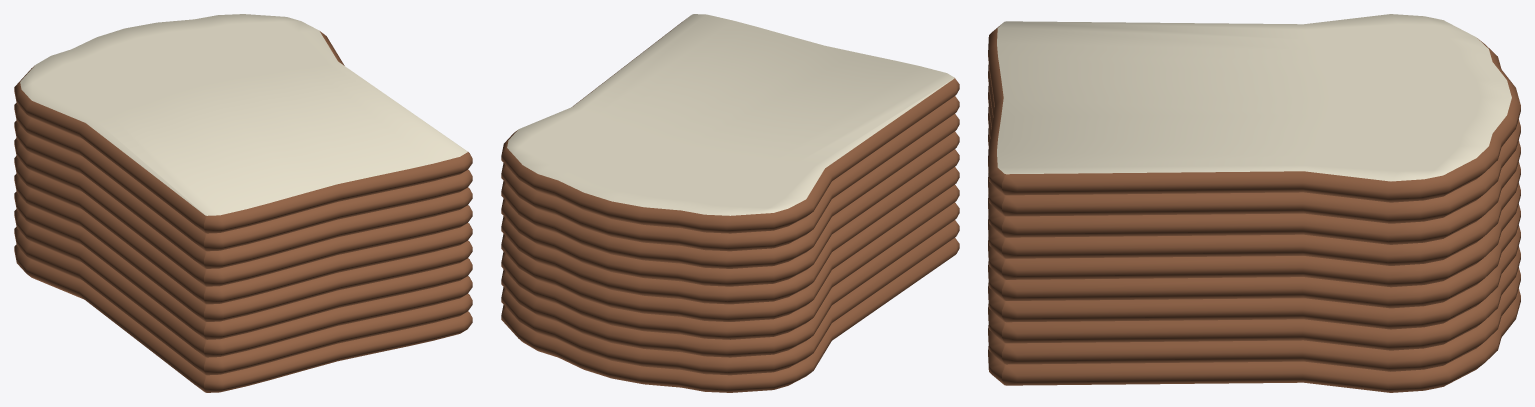
Rendered from StackOfBread.fbx.
The picture shows the model from 3 angles, left to right: view 1: azimuth 30°, elevation 25°; view 2: azimuth 150°, elevation 25°; view 3: azimuth 270°, elevation 25°; orthographic projection. The views are drawn at different scales.
Visible parts, largest first — view 1: Bread; view 2: Bread; view 3: Bread.
Boxes of the visible parts, x1=… form: Bread: x1=14, y1=14, x2=472, y2=392; Bread: x1=501, y1=14, x2=959, y2=392; Bread: x1=988, y1=14, x2=1520, y2=392.
Size of the model in its own units: 246 by 139 by 317.
1 material, 1 textured.
